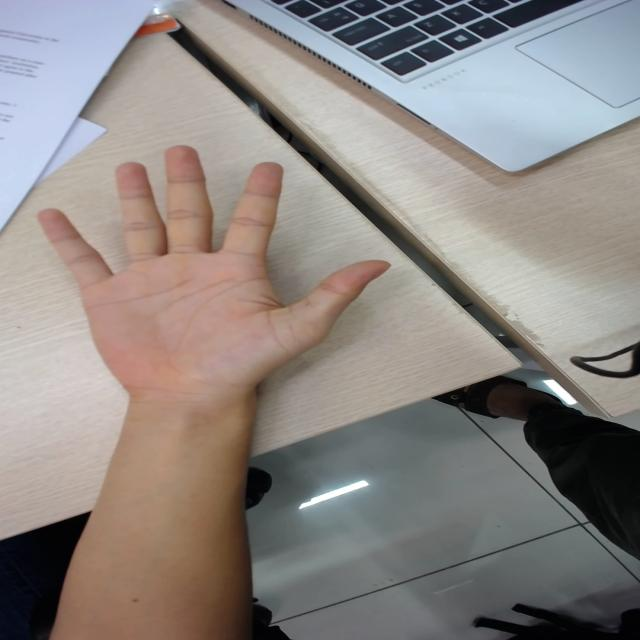hand: (44, 151, 372, 380)
